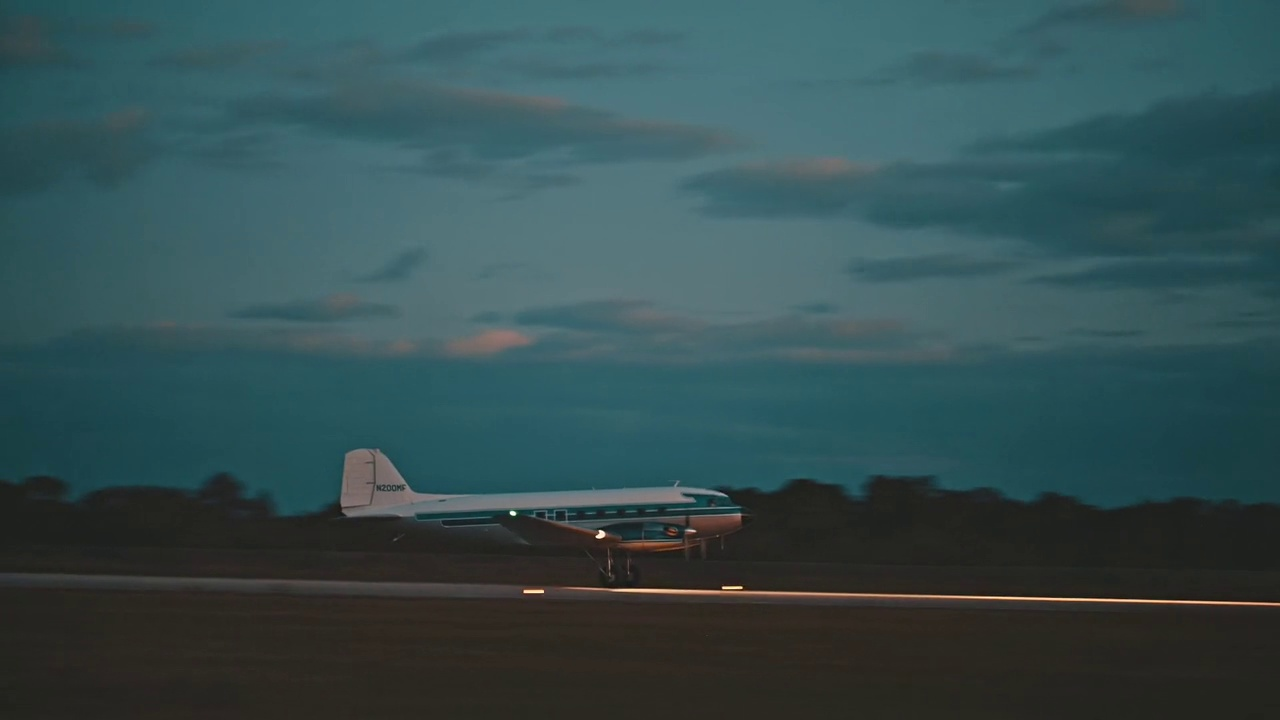plane: (335, 446, 751, 586)
